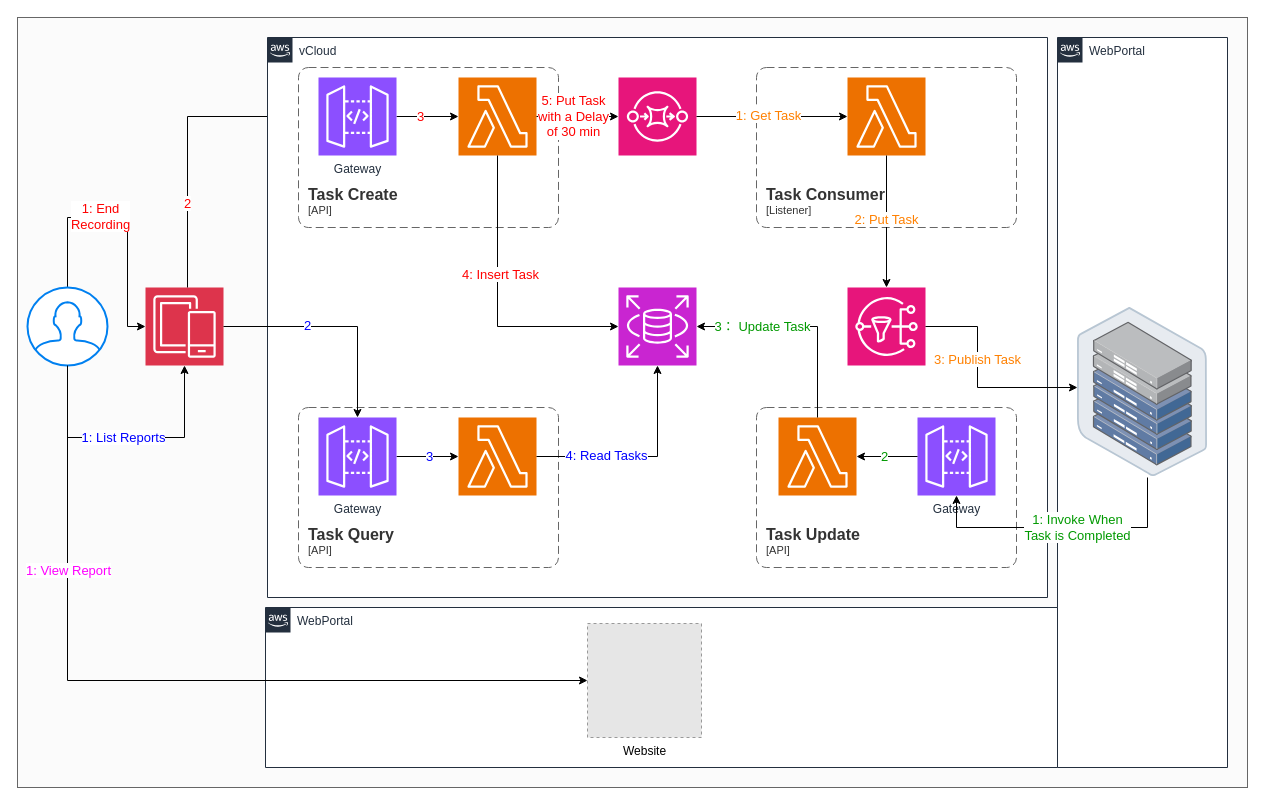
This 1265x805 diagram has some shape labels left out. Grey dashed boxes stand in for pictures. The shapes that lost their labels are listed below. From the top down, each one's centre as x and y in pixels, then its label:
At [657,116]: "SQS: Task Queue".
At [184,326]: "VivaLNK Mobile App".
At [657,326]: "RDS: Task Table".
At [886,326]: "SNS".
At [1142,391]: "Backend".
